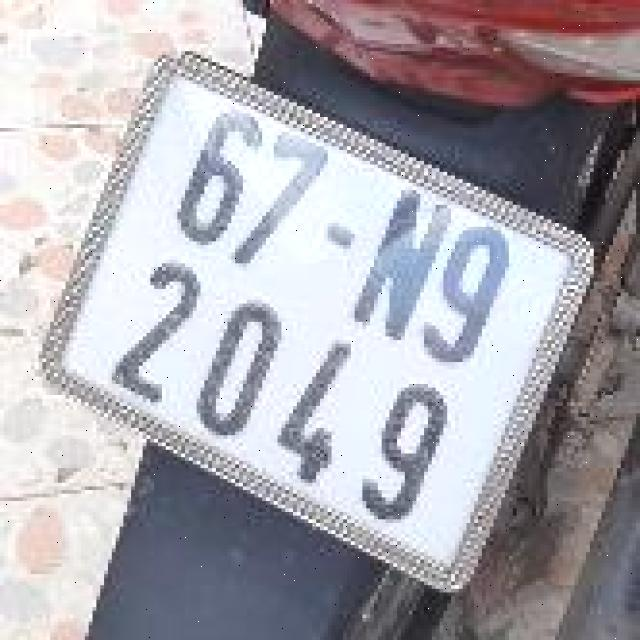0: (172, 275, 316, 456)
2: (93, 239, 227, 411)
4: (254, 322, 383, 501)
6: (159, 99, 273, 269)
7: (220, 118, 344, 295)
9: (402, 210, 532, 389), (341, 363, 468, 543)
N: (340, 179, 463, 350)
